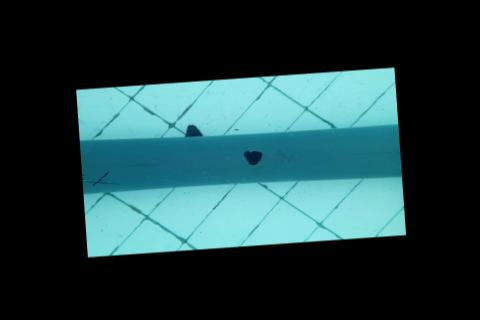kebocoran: (239, 149, 264, 167)
keretakan: (81, 171, 118, 192)
